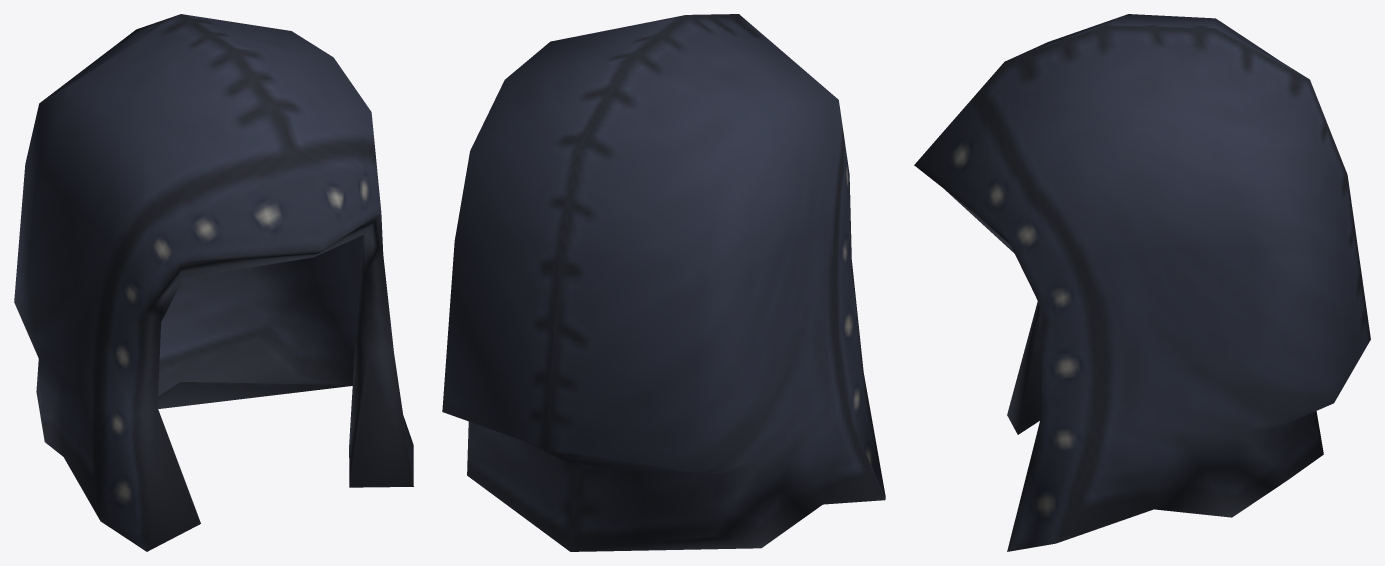
File: headShroud.fbx
3 renders of one model, left to right at view 1: azimuth 30°, elevation 25°; view 2: azimuth 150°, elevation 25°; view 3: azimuth 270°, elevation 25°, orthographic. The views are drawn at different scales.
Visible parts, largest first — view 1: headShroud; view 2: headShroud; view 3: headShroud.
Boxes of the visible parts, x1,y1,x2,y2 form: headShroud: [14, 14, 413, 551]; headShroud: [442, 14, 885, 551]; headShroud: [914, 14, 1370, 551].
Size of the model in its own units: 1.55 by 2.06 by 1.86.
